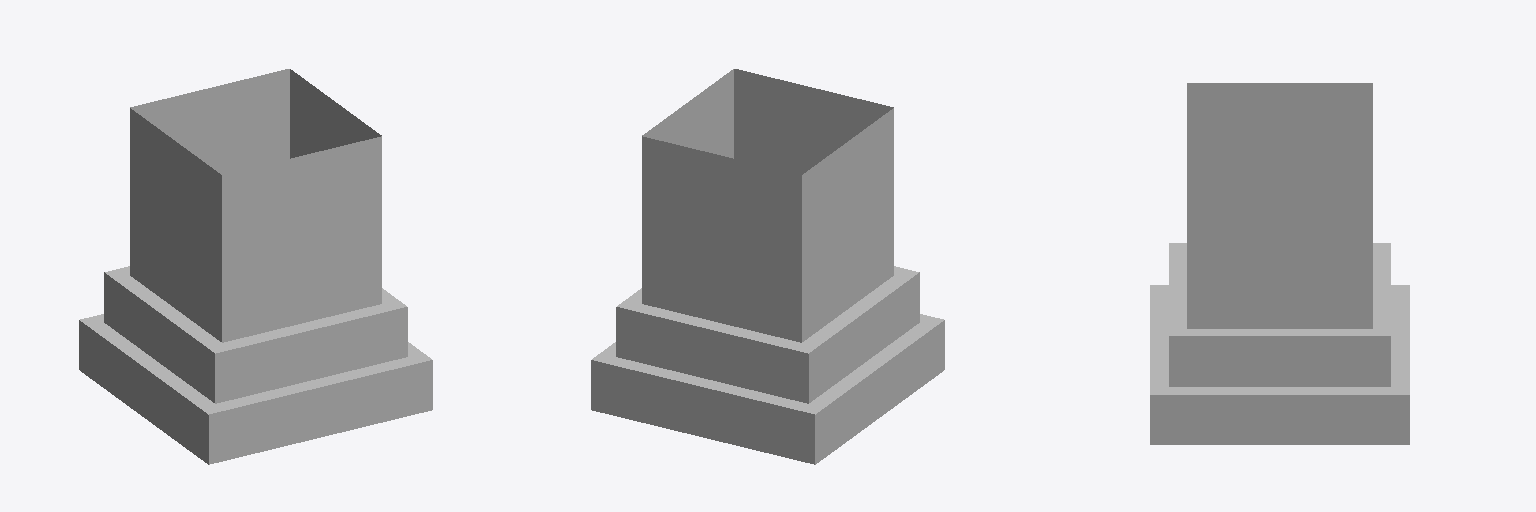
File: thelimit_thin_pillar_bottom.obj
The picture shows the model from 3 angles: view 1: azimuth 30°, elevation 25°; view 2: azimuth 150°, elevation 25°; view 3: azimuth 270°, elevation 25°; orthographic projection.
Visible parts, largest first — view 1: cube.001; view 2: cube.001; view 3: cube.001.
Part boxes in pixels (left/top/right/bottom): cube.001: left=79, top=69, right=432, bottom=464; cube.001: left=591, top=69, right=944, bottom=464; cube.001: left=1150, top=83, right=1409, bottom=444.
Size of the model in its own units: 0.875 by 1 by 0.875.